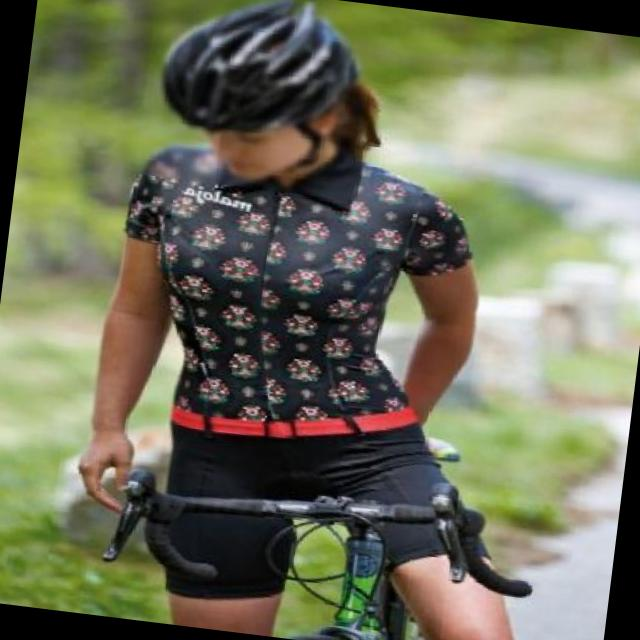With Helmet: (137, 0, 380, 202)
